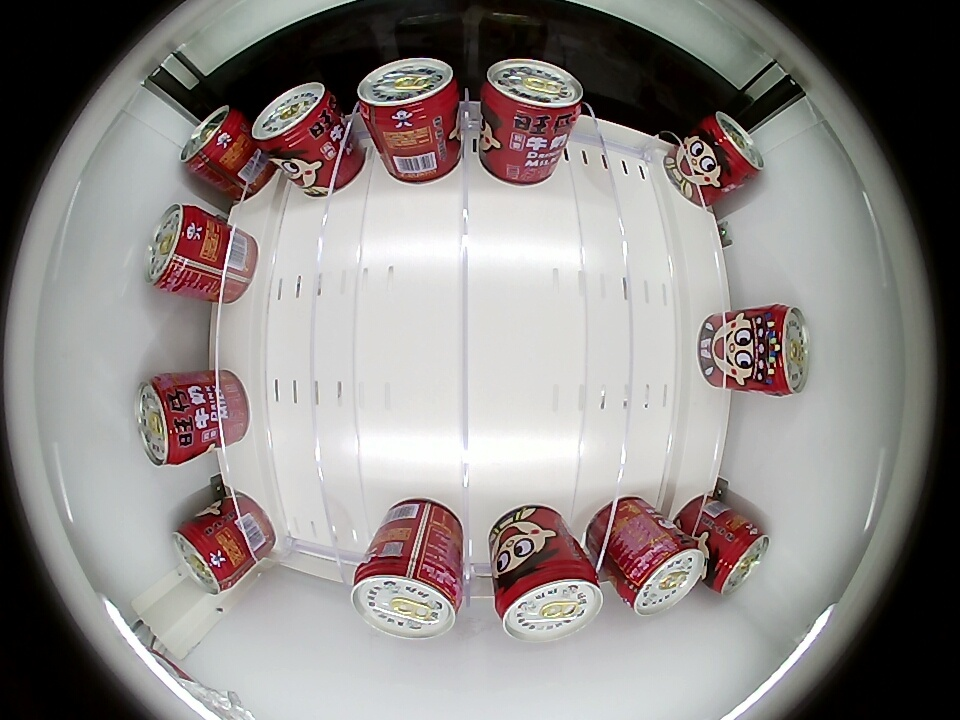wangzainiunai: (351, 541, 463, 640), (492, 550, 604, 643), (479, 58, 584, 137), (614, 528, 707, 617), (356, 57, 459, 137), (252, 81, 342, 161), (144, 202, 213, 294), (136, 374, 200, 468), (171, 515, 241, 595), (753, 304, 809, 397), (704, 519, 770, 596), (180, 105, 249, 178), (702, 110, 764, 188)
